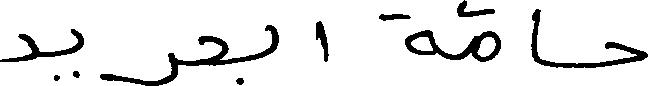X: (101, 48, 175, 85), (380, 9, 434, 59), (459, 0, 498, 66), (238, 20, 277, 85), (55, 24, 82, 85), (607, 37, 647, 70), (0, 29, 34, 66), (200, 31, 225, 70), (317, 16, 326, 66), (534, 0, 537, 85)
